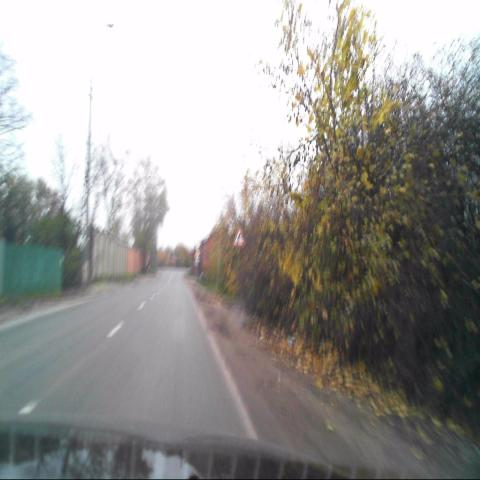1_11: (233, 224, 246, 244)
